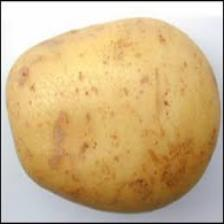Potato: (4, 12, 222, 215)
